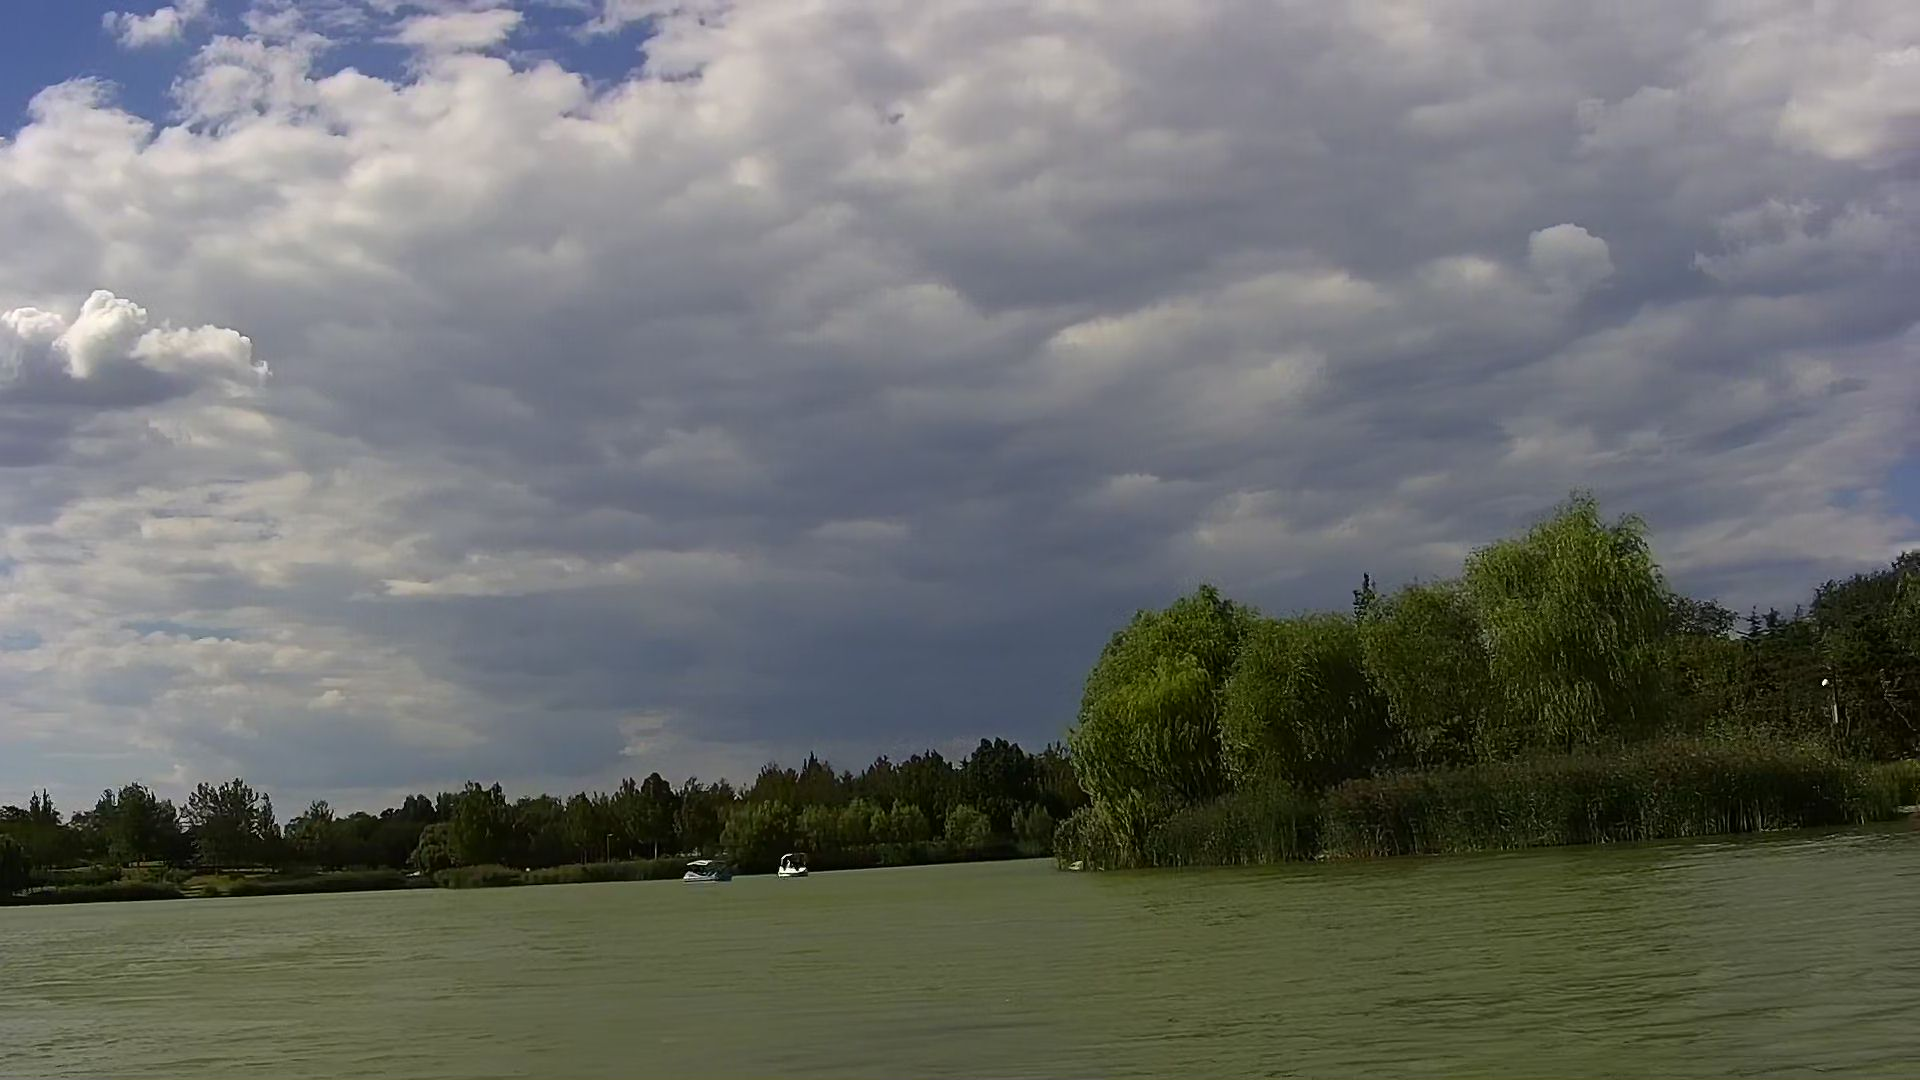boat: (676, 853, 738, 884), (774, 853, 816, 880)
rock: (1064, 855, 1087, 873)
